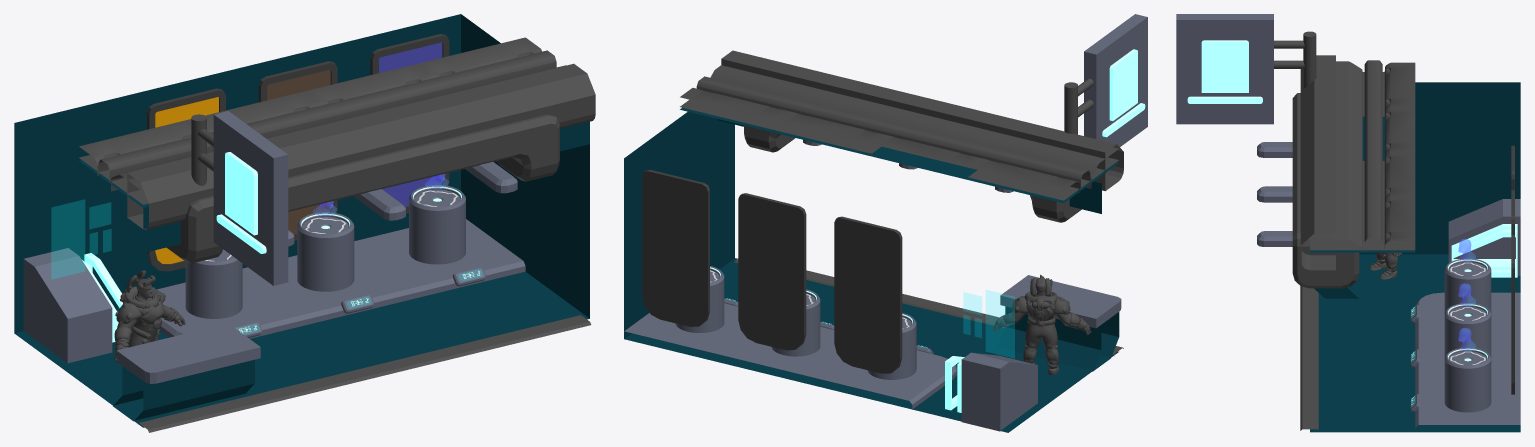
Rendered from MB_Shop_Headwear.fbx.
The picture shows the model from 3 angles, left to right: view 1: azimuth 30°, elevation 25°; view 2: azimuth 150°, elevation 25°; view 3: azimuth 270°, elevation 25°; orthographic projection. The views are drawn at different scales.
Parts seen in each view (by area): view 1: Cube.6560, Cylinder.006, Cube.6561; view 2: Cube.6560, Cube.6561, Cylinder.006; view 3: Cube.6560, Cube.6561, Cylinder.006, Pirate_BodySuit.005.
Part boxes in pixels (x1,y1,x2,y2): Cube.6560: (14, 14, 595, 432); Cylinder.006: (185, 185, 465, 318); Cube.6561: (191, 111, 288, 285); Cube.6560: (624, 50, 1123, 432); Cube.6561: (1064, 14, 1147, 146); Cylinder.006: (675, 266, 916, 379); Cube.6560: (1257, 55, 1520, 432); Cube.6561: (1176, 14, 1316, 124); Cylinder.006: (1444, 258, 1491, 412); Pirate_BodySuit.005: (1458, 239, 1475, 350).
Size of the model in its own units: 8 by 5.47 by 6.54.
